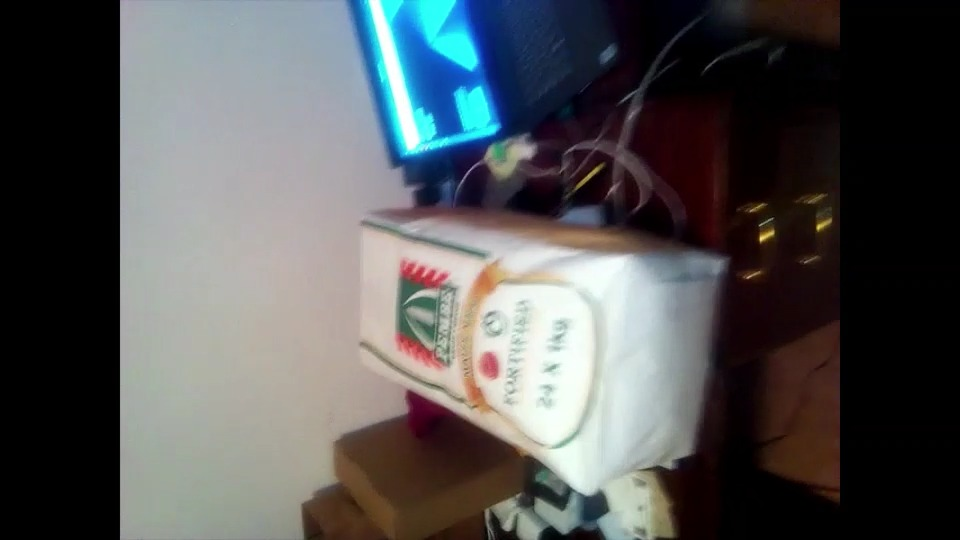maize_flour_green_label: (363, 212, 715, 468)
